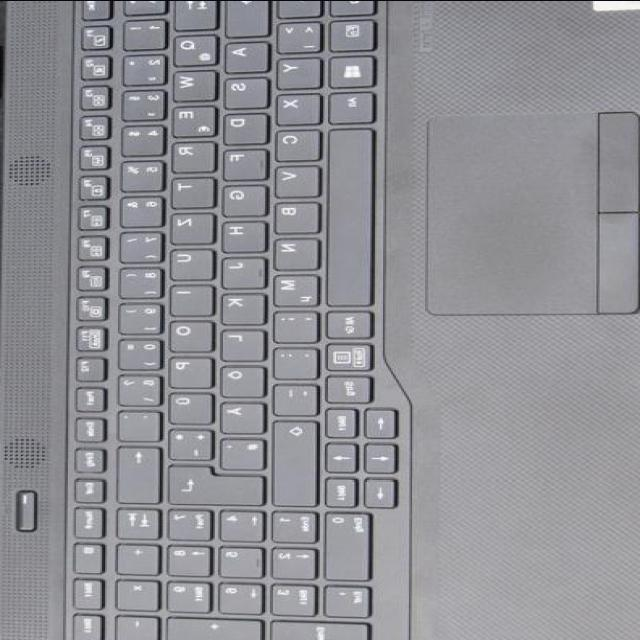0: (113, 335, 159, 367)
1: (118, 16, 164, 48)
2: (118, 51, 164, 83)
3: (116, 86, 162, 118)
4: (116, 121, 162, 153)
5: (115, 157, 161, 189)
6: (115, 192, 161, 224)
7: (115, 228, 161, 260)
8: (113, 263, 160, 295)
9: (113, 300, 159, 332)
a: (218, 38, 265, 70)
accent: (112, 407, 159, 439)
ae: (214, 399, 262, 431)
alt-left: (324, 88, 372, 122)
altgr-right: (320, 307, 368, 337)
b: (269, 198, 317, 232)
c: (270, 126, 318, 158)
caret: (118, 0, 162, 12)
comma: (267, 308, 315, 340)
d: (218, 109, 265, 141)
del: (110, 442, 157, 500)
e: (167, 102, 214, 134)
enter: (160, 461, 262, 504)
f: (218, 145, 264, 177)
g: (217, 181, 264, 213)
h: (217, 217, 264, 249)
hash: (215, 434, 262, 466)
i: (163, 281, 210, 313)
j: (215, 254, 263, 286)
k: (215, 290, 263, 322)
keyboard: (57, 0, 411, 640)
l: (215, 326, 262, 358)
less: (272, 18, 319, 50)
m: (267, 271, 317, 303)
minus: (267, 380, 315, 414)
n: (269, 235, 317, 267)
o: (163, 316, 210, 348)
oe: (215, 362, 262, 394)
p: (163, 353, 210, 385)
plus: (162, 425, 210, 457)
point: (267, 343, 315, 377)
q: (168, 31, 215, 63)
r: (167, 138, 214, 170)
s: (218, 73, 265, 105)
shift-left: (272, 1, 319, 15)
shift-lock: (219, 1, 267, 35)
shift-right: (266, 416, 314, 504)
space: (322, 126, 372, 304)
ss: (112, 371, 159, 403)
strg-left: (324, 0, 374, 16)
strg-right: (320, 373, 368, 401)
t: (165, 174, 212, 206)
tab: (168, 0, 215, 27)
u: (164, 245, 212, 277)
ue: (163, 388, 210, 422)
v: (269, 163, 317, 195)
w: (167, 66, 215, 98)
x: (270, 90, 318, 122)
y: (272, 54, 319, 86)
z: (164, 209, 212, 241)
